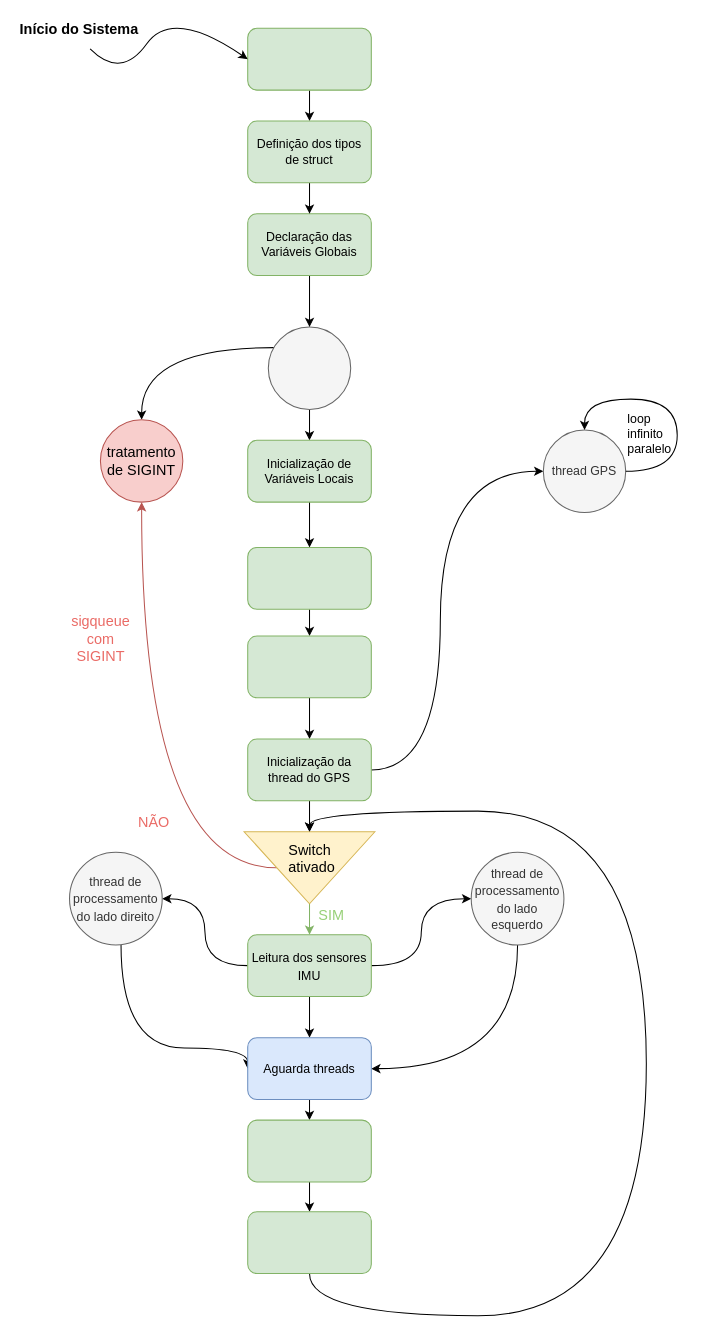
Image size: 705x1334. Some labels were removed from this diagram. The shapes that lost their labels are listed below. From the top down, each one's centre as x and y in pixels, then its label:
the point at 309,58: Declaração das constantes e Macros
the point at 309,367: main
the point at 309,577: Setup dos pinos de I/O digital
the point at 309,666: Inicialização dos sensores IMU
the point at 309,1150: Salva log de teste
the point at 309,1242: Imprime resultados no terminal
